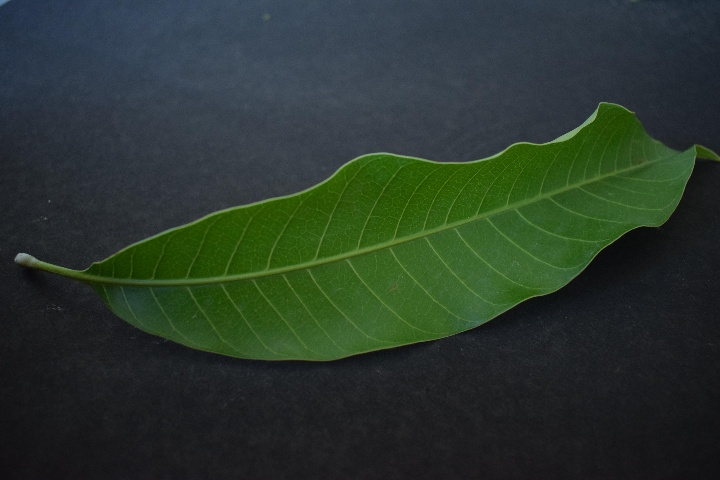healthy: (49, 96, 694, 369)
